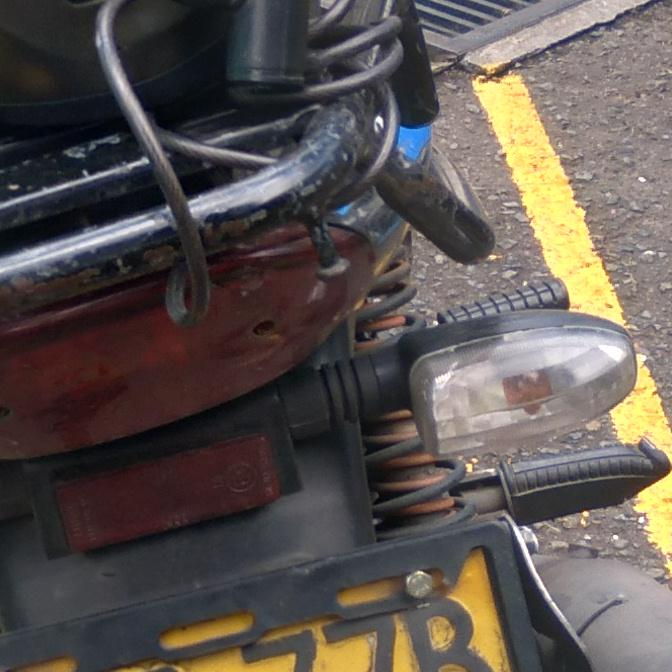plates: (0, 520, 532, 672)
